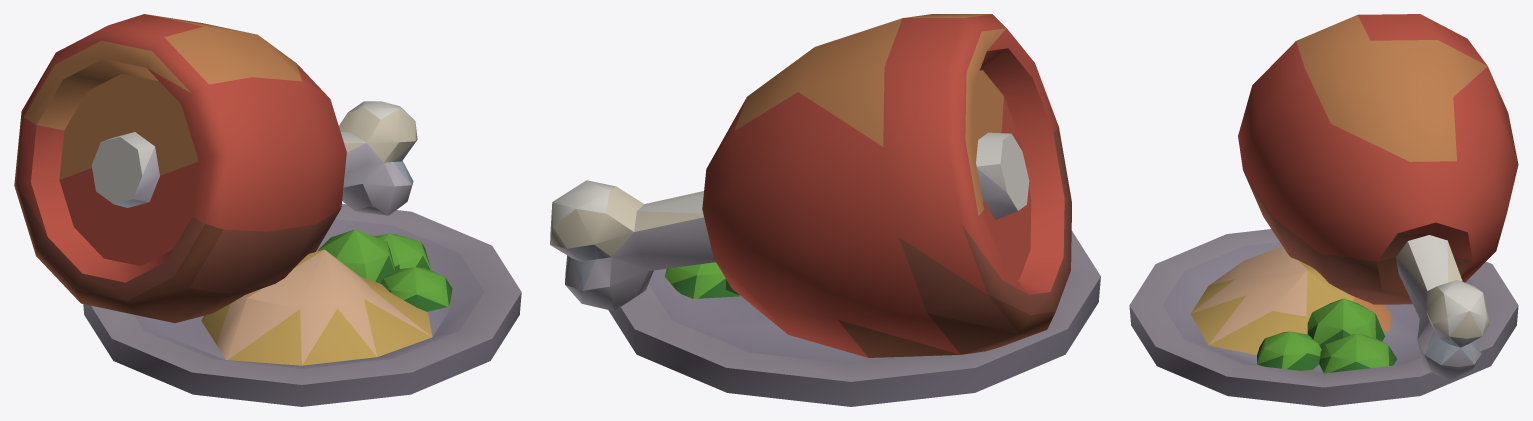
3 views of the same model, side by side, from view 1: azimuth 30°, elevation 25°; view 2: azimuth 150°, elevation 25°; view 3: azimuth 270°, elevation 25° (orthographic). The views are drawn at different scales.
Visible parts, largest first — view 1: model; view 2: model; view 3: model.
Boxes of the visible parts, x1,y1,x2,y2 form: model: (14, 14, 521, 406); model: (550, 14, 1100, 406); model: (1129, 14, 1518, 406).
Bounding box in the file's own units: 0.7175 × 0.5513 × 0.6794.
